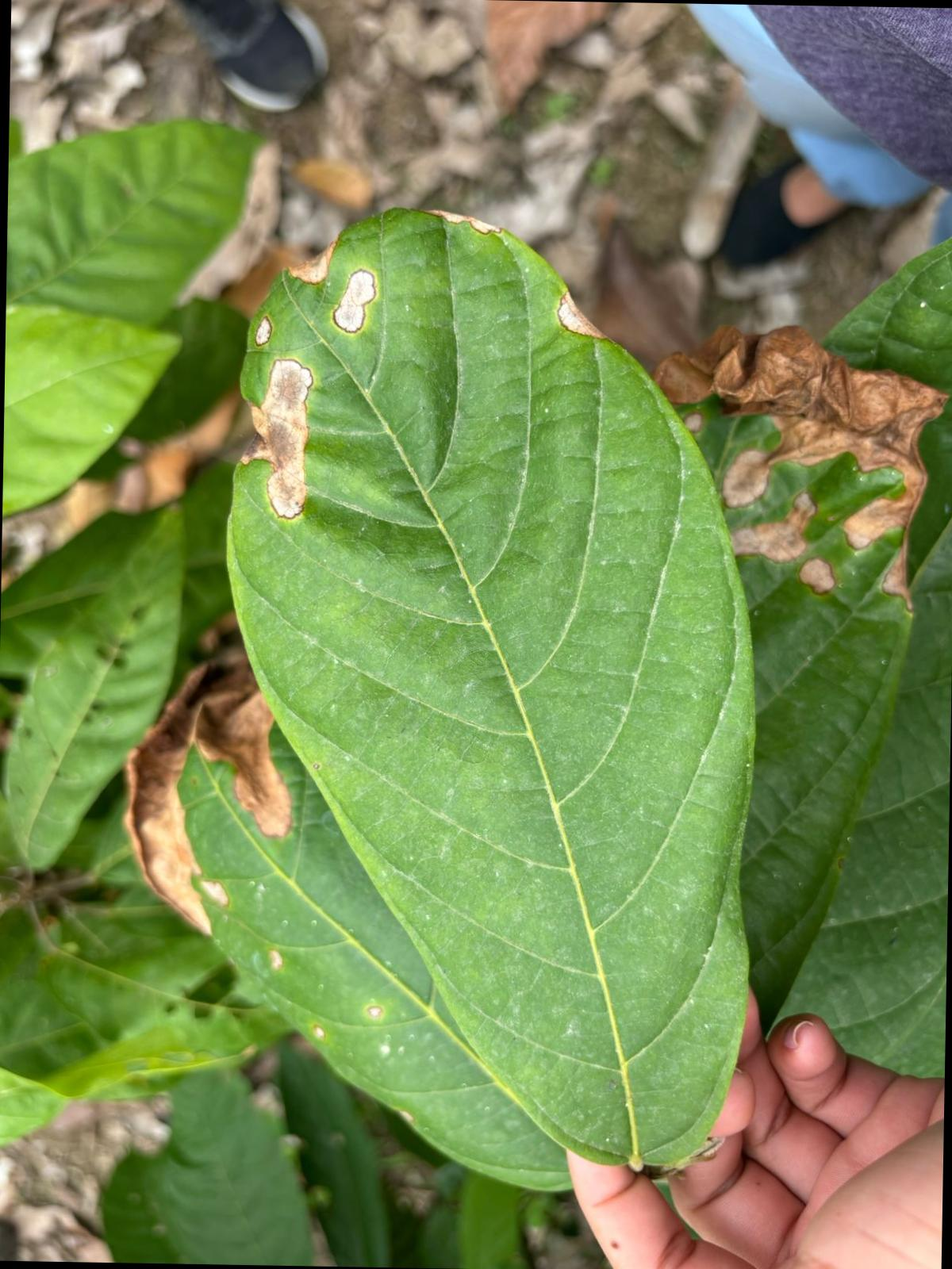Potasio: (228, 211, 754, 1170), (126, 664, 567, 1189)
